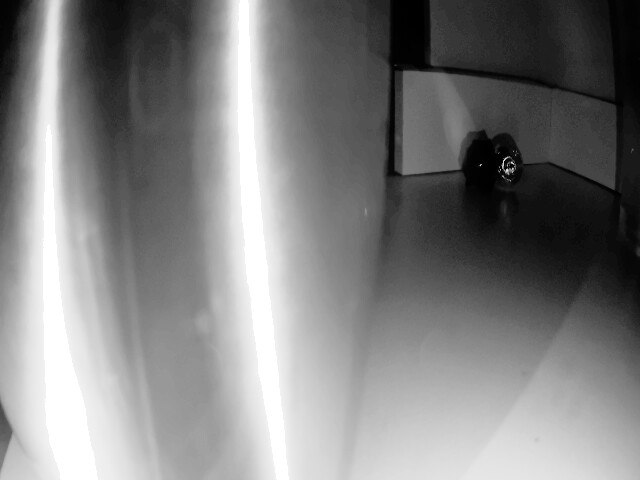black: (493, 141, 527, 180)
silver: (463, 135, 497, 186)
